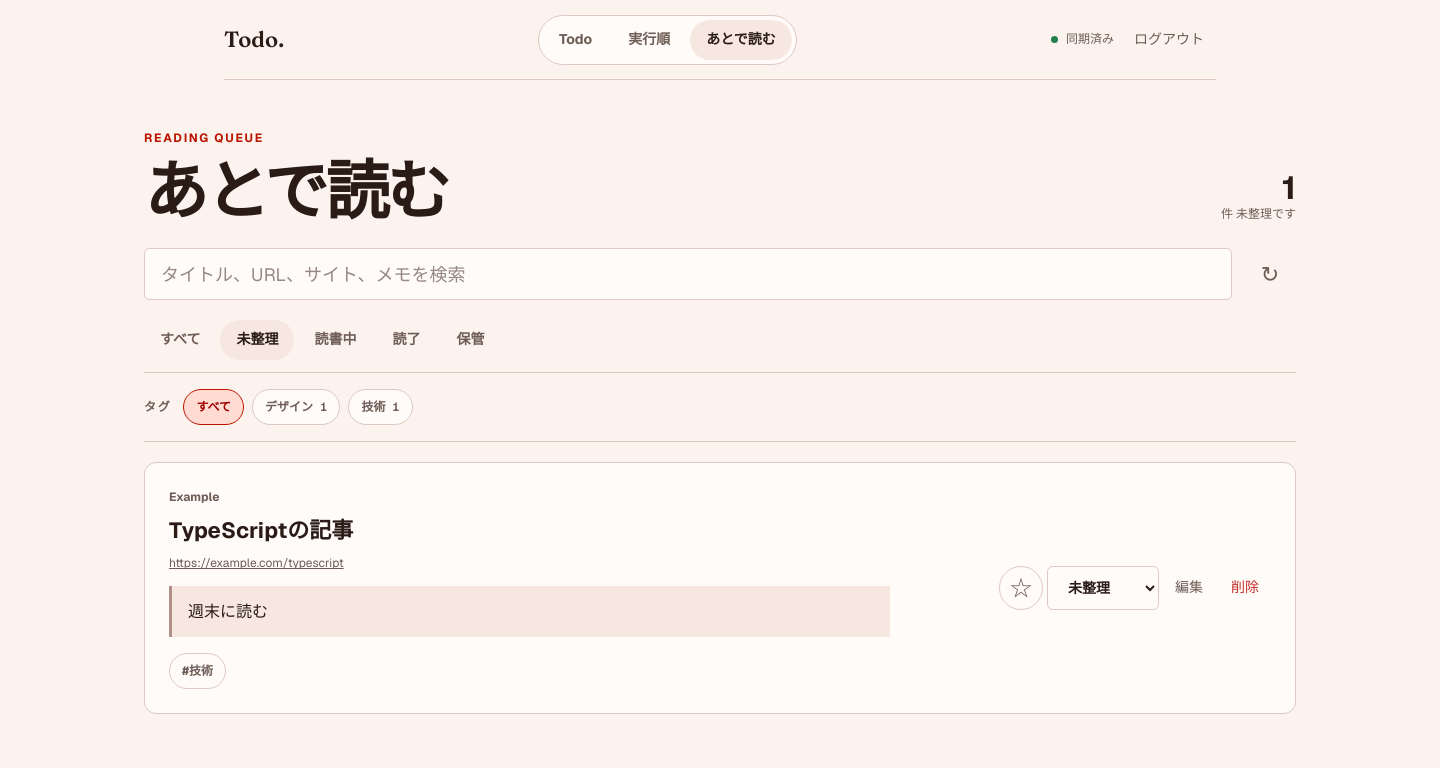
Test case: BookmarkWorkspace › lists bookmarks and filters by keyword and tag
expect the text "デザインの記事" is not shown: met
Click the 1st button with class "filter-button".
click(180, 340)  # box [144, 320, 216, 360]
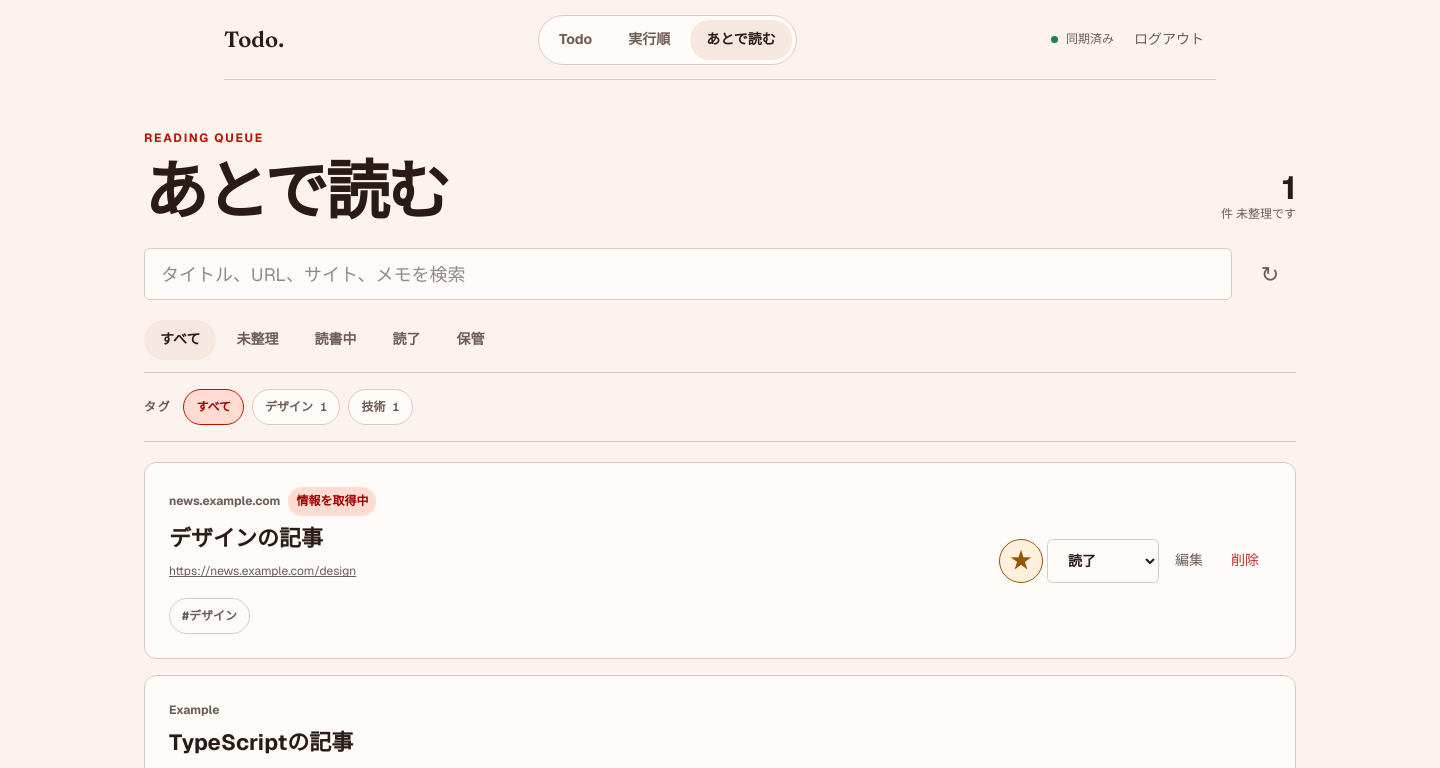
expect the text "TypeScriptの記事" is shown: met, box [169, 728, 353, 756]
expect the text "デザインの記事" is shown: met, box [169, 524, 323, 552]
Type "週末" into the search field with placeholder "タイトル、URL、サイト、メモを検索".
click(688, 274); type("週末")  # box [144, 248, 1232, 300]
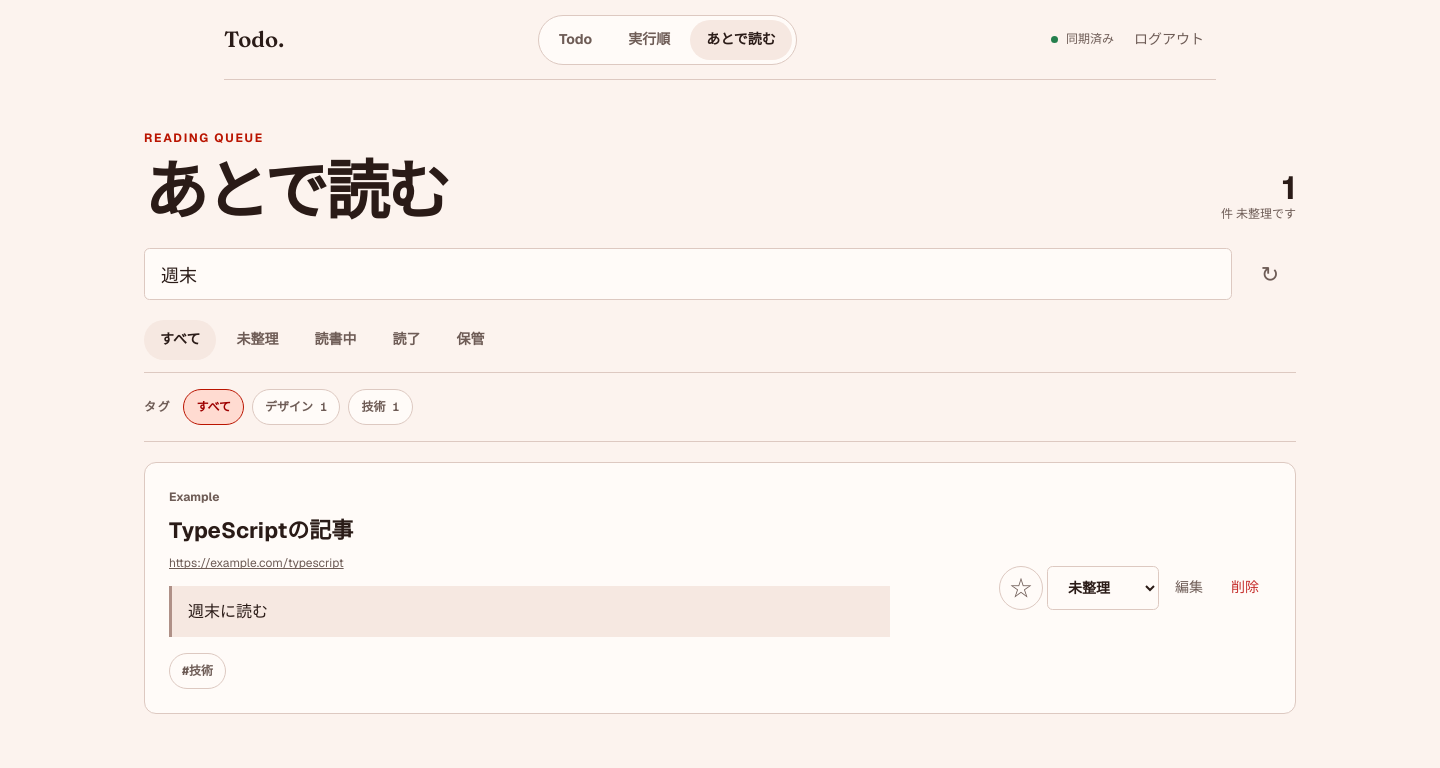
expect the text "TypeScriptの記事" is shown: met, box [169, 516, 353, 544]
expect the text "デザインの記事" is gone: met
Clear the search field at (688, 274), box [144, 248, 1232, 300]
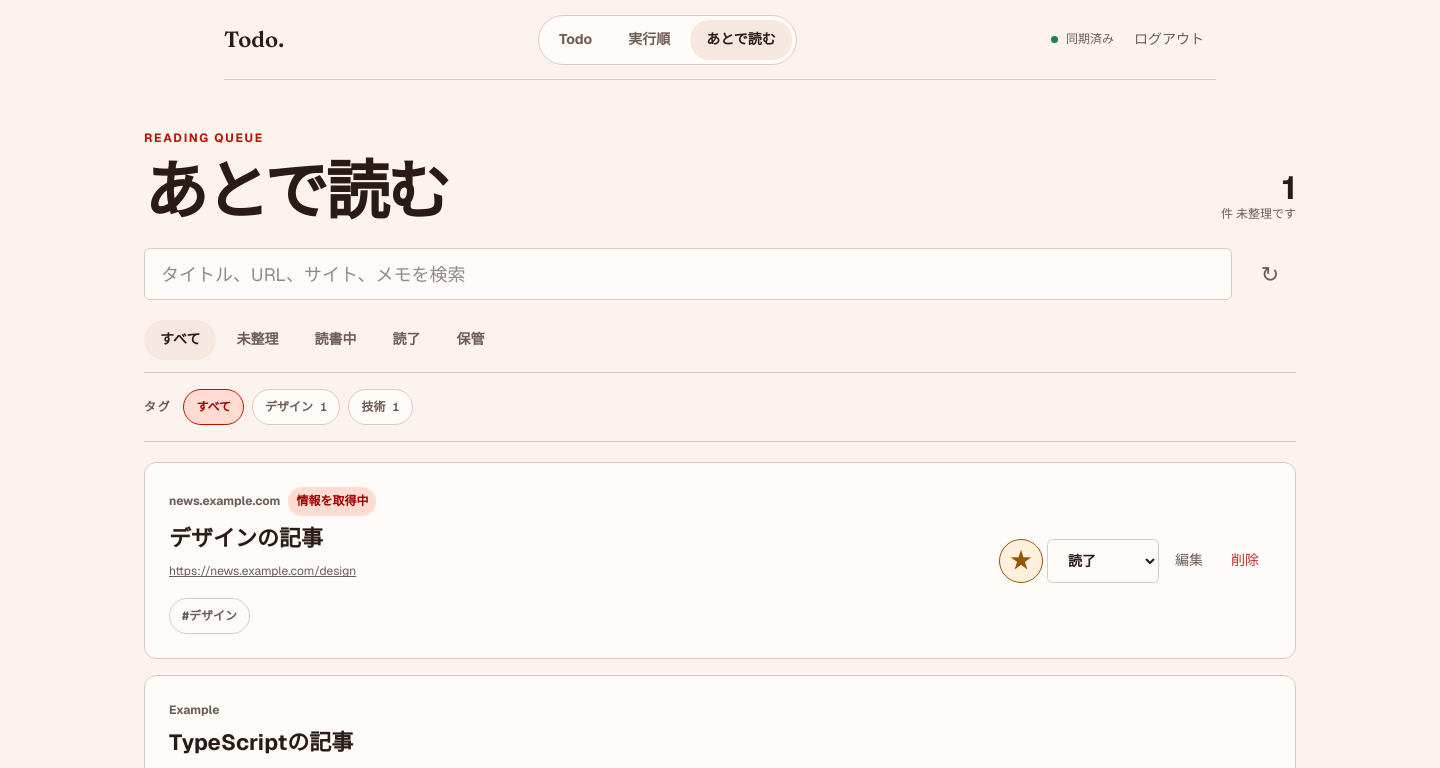
Click the button with class "tag-filter-button" showing "デザイン 1".
click(296, 407)  # box [252, 389, 340, 425]
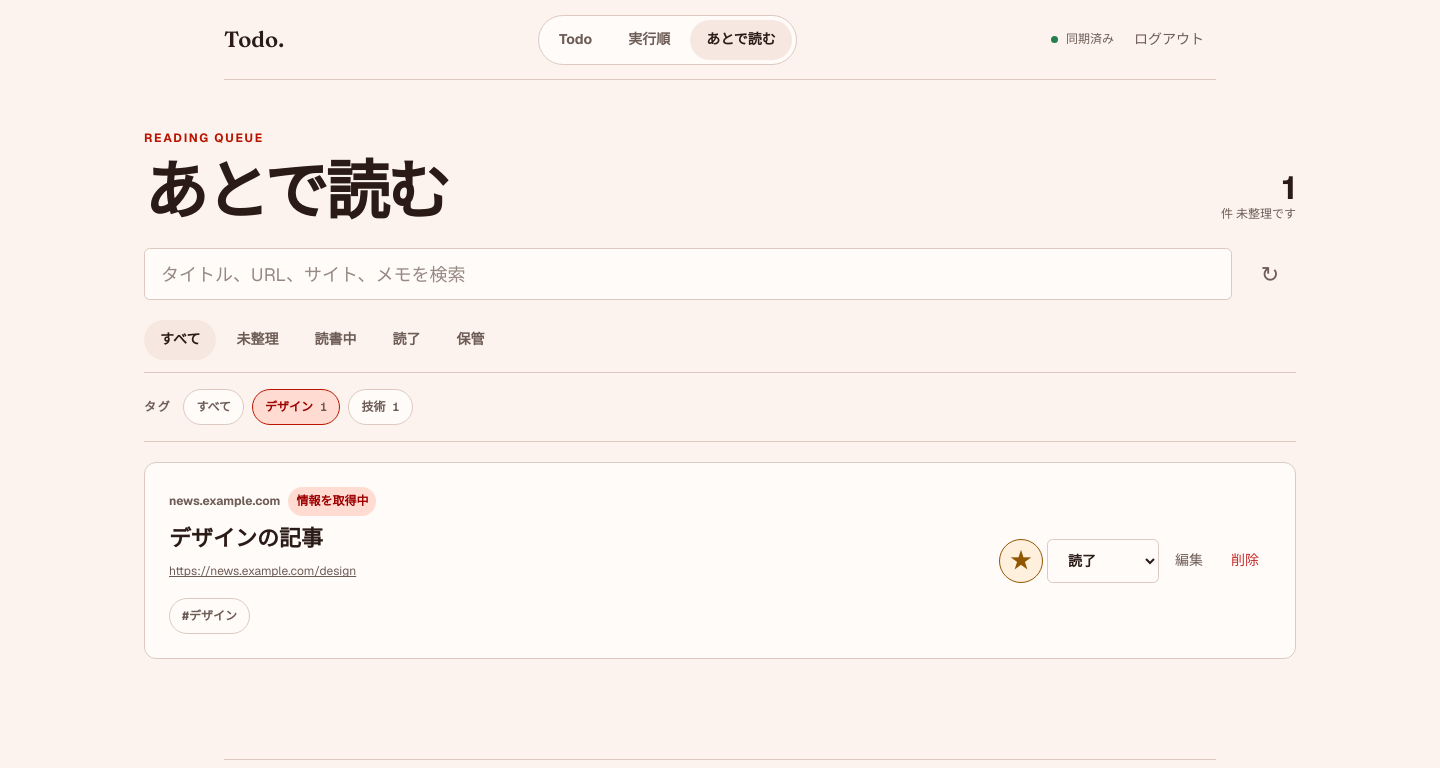
expect the text "デザインの記事" is shown: met, box [169, 524, 323, 552]
expect the text "TypeScriptの記事" is gone: met
